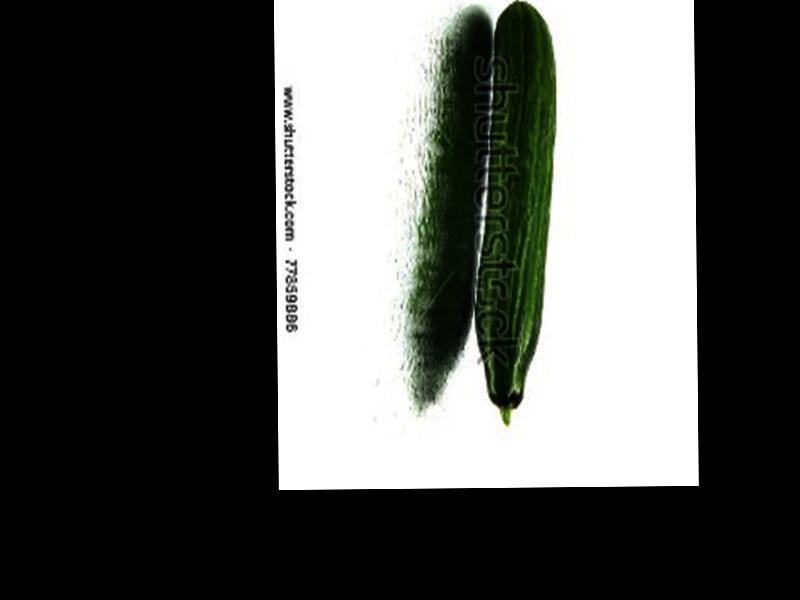Cucumber: (471, 4, 560, 424)
